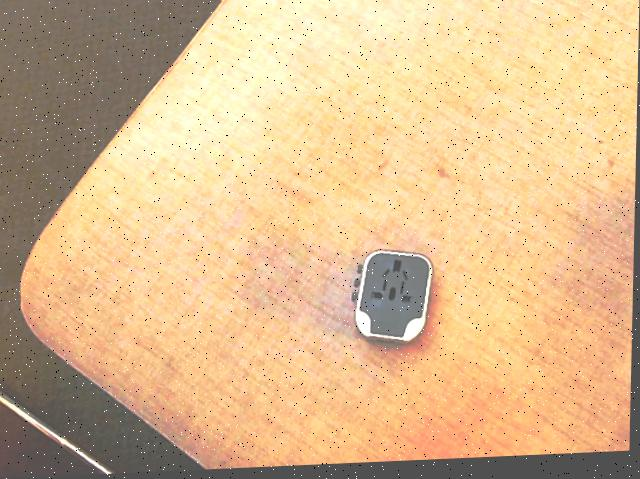adapter: (353, 251, 434, 349)
